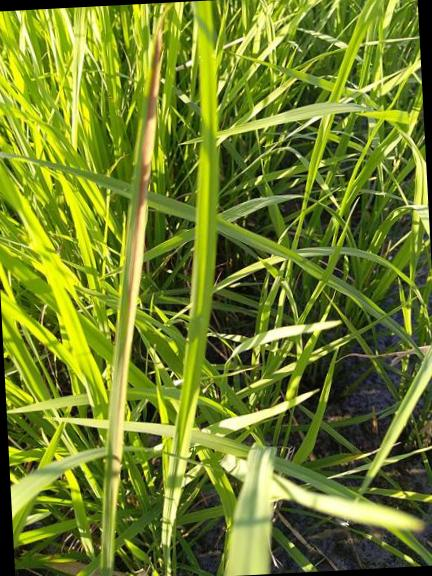Leaf Streak: (101, 32, 161, 561)
